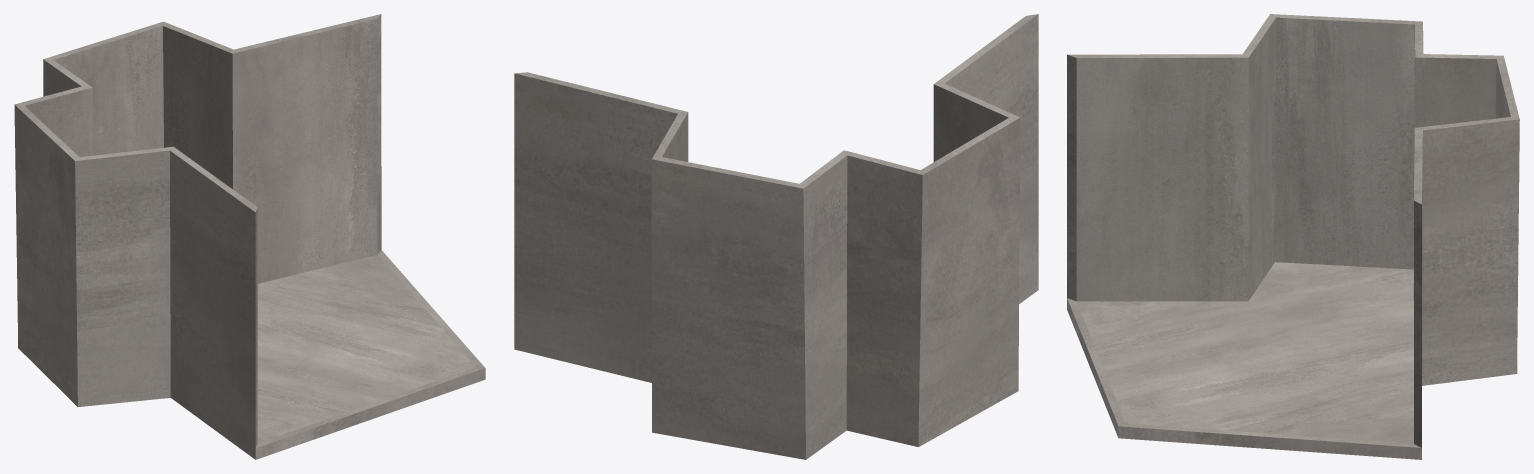
The model's file is CoreRoom.glb.
3 views of the same model, side by side, from view 1: azimuth 30°, elevation 25°; view 2: azimuth 150°, elevation 25°; view 3: azimuth 270°, elevation 25° (orthographic). The views are drawn at different scales.
Parts seen in each view (by area): view 1: CoreRoom; view 2: CoreRoom; view 3: CoreRoom.
Boxes of the visible parts, x1,y1,x2,y2 form: CoreRoom: (14,14,485,459); CoreRoom: (514,14,1038,459); CoreRoom: (1067,14,1519,459).
Size of the model in its own units: 10.45 by 6.5 by 10.45.
1 material, 1 textured.
